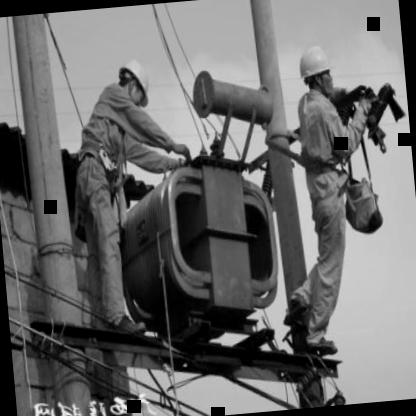helmet: (294, 38, 339, 103), (115, 52, 156, 112)
